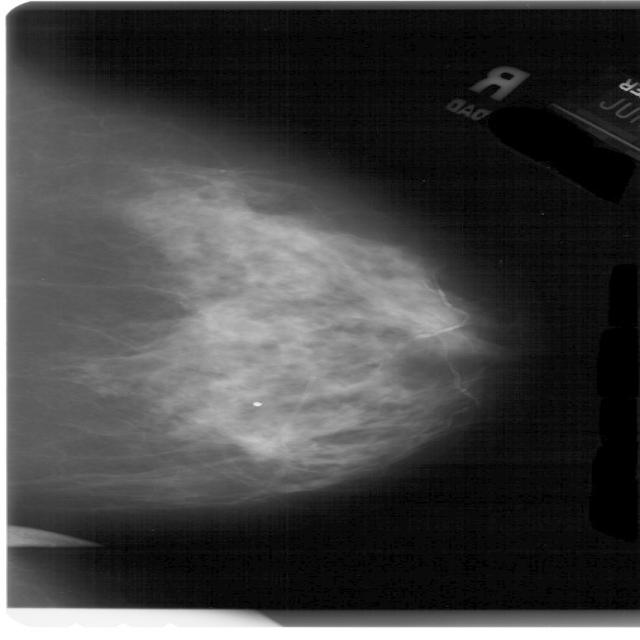tumour: (236, 430, 294, 463)
